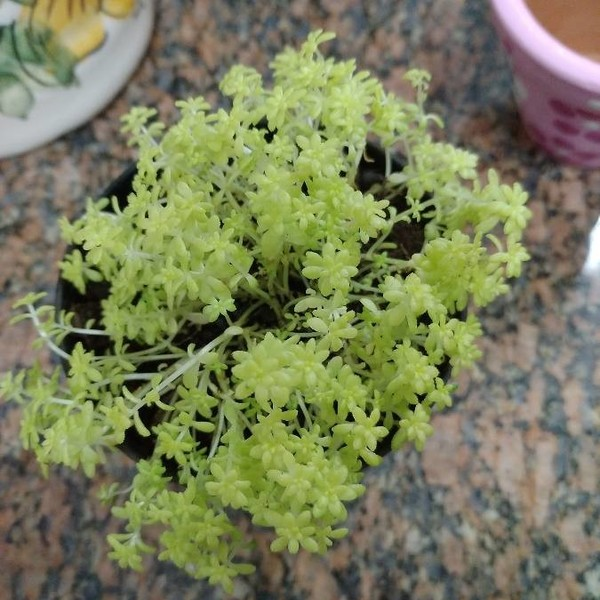obstacle: (46, 67, 513, 557)
